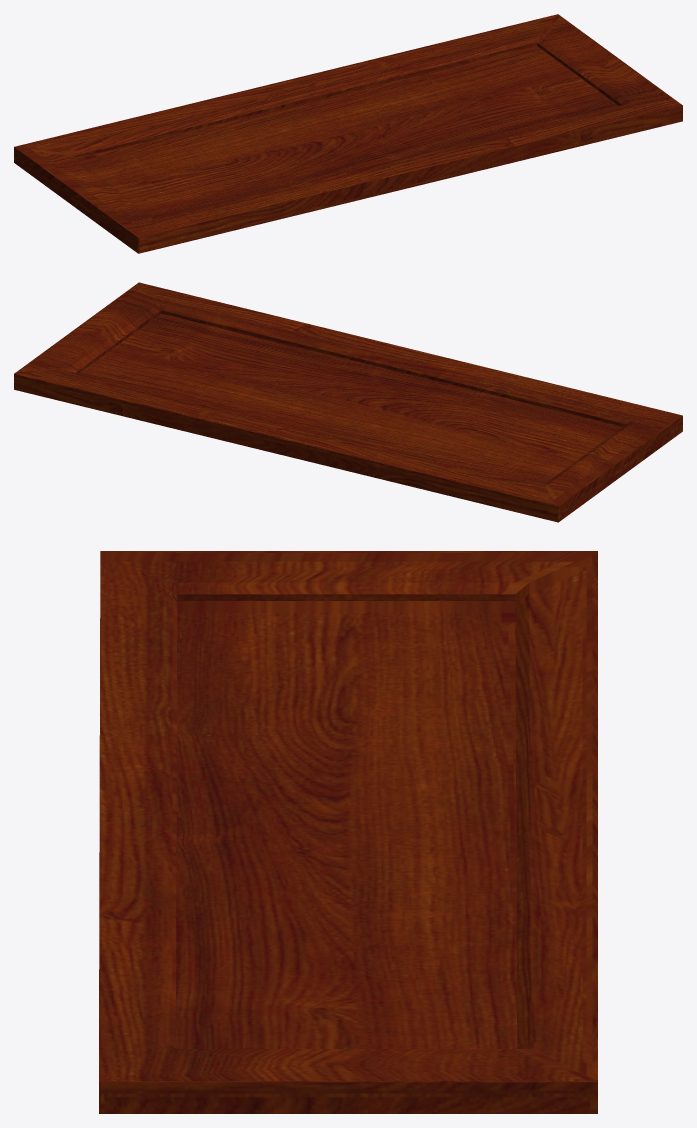
Rendered from menshan.fbx.
3 views of the same model, one above another, from view 1: azimuth 30°, elevation 25°; view 2: azimuth 150°, elevation 25°; view 3: azimuth 270°, elevation 25° (orthographic). The views are drawn at different scales.
Visible parts, largest first — view 1: men2; view 2: men2; view 3: men2.
Boxes of the visible parts, left/top/right/bottom form: men2: left=14, top=14, right=682, bottom=253; men2: left=14, top=282, right=682, bottom=522; men2: left=99, top=551, right=597, bottom=1113.
Size of the model in its own units: 215 by 6 by 85.46.
1 material, 1 textured.
